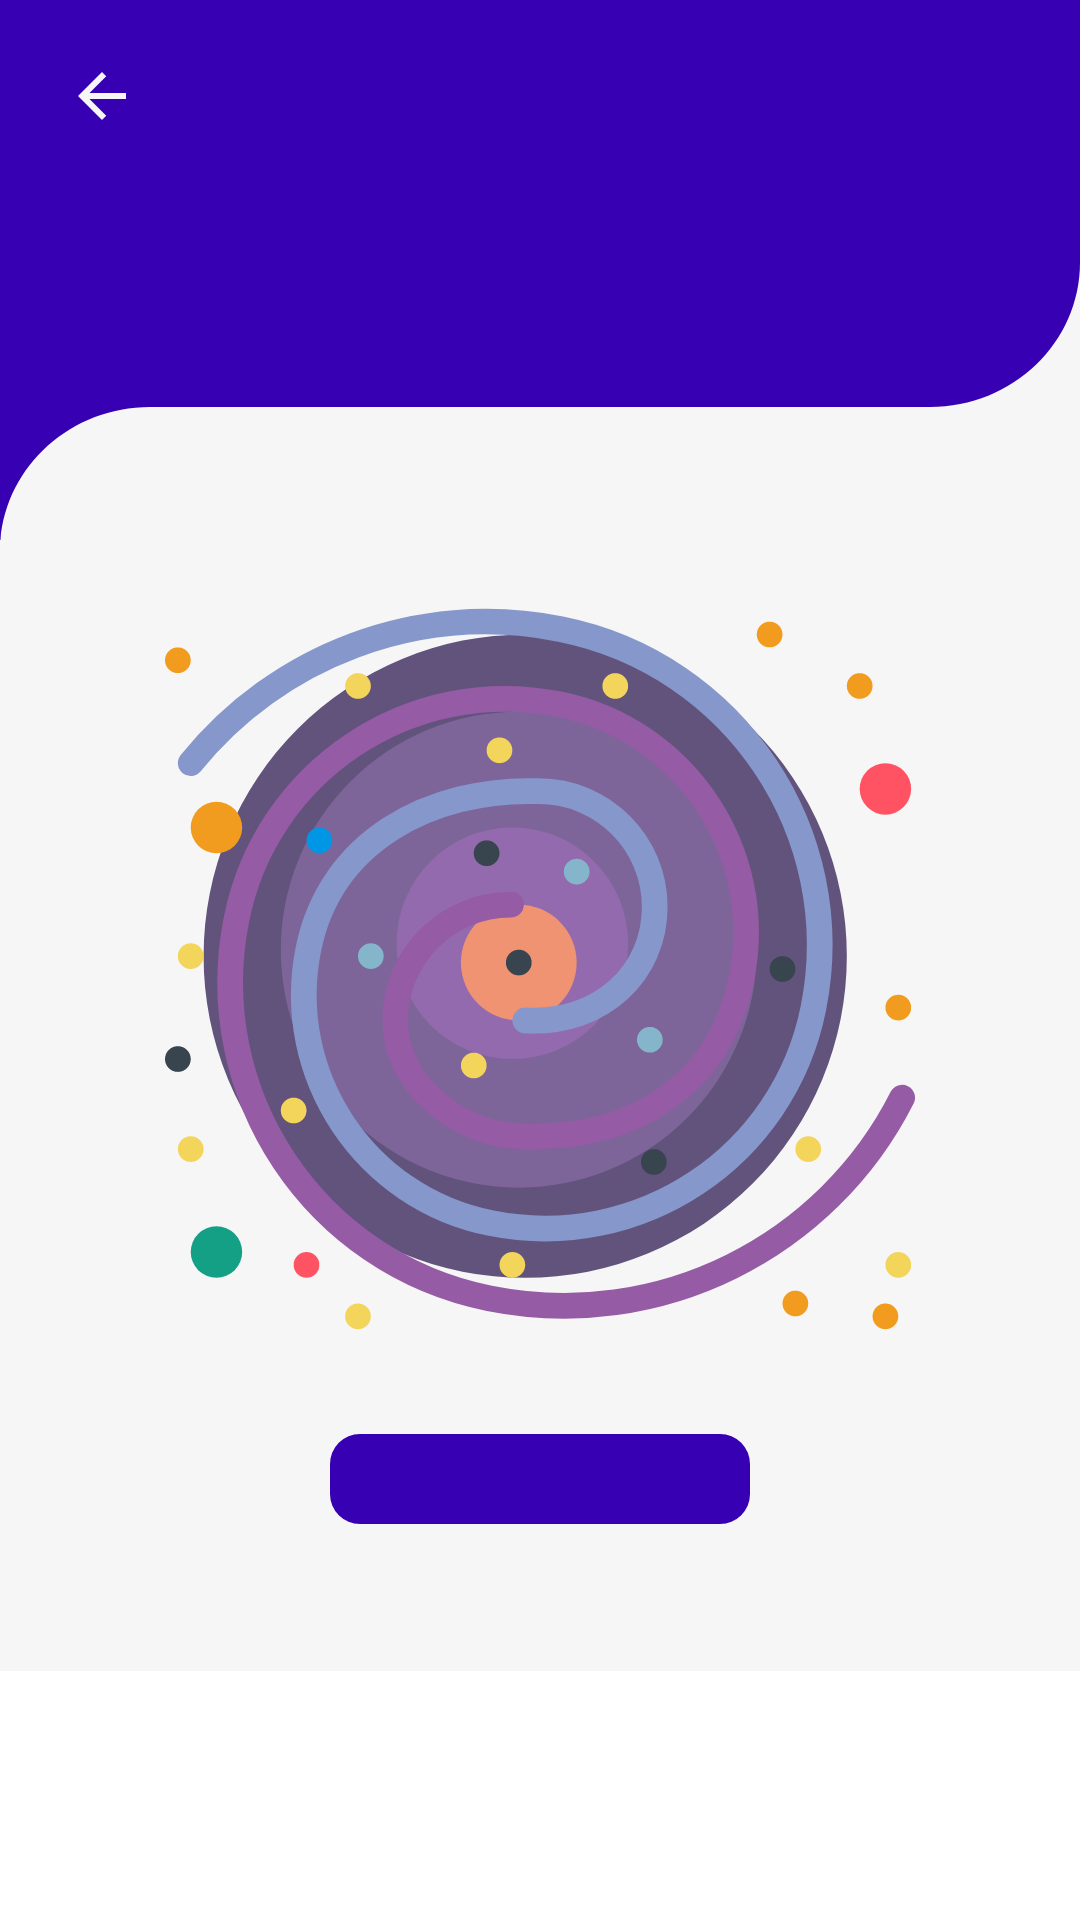

Named icons in this screenshot (1080 × 1920) and their bounding boxes, (x1, y1, x2, y2):
back arrow: (78, 72, 126, 120)
